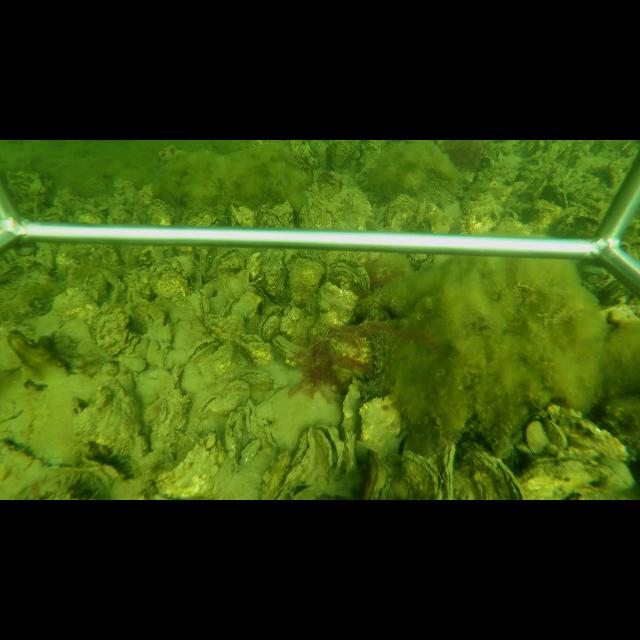Oyster-Closed: (148, 430, 229, 498), (518, 457, 626, 498), (308, 280, 362, 344), (180, 340, 242, 393), (465, 444, 522, 498), (563, 411, 626, 458), (358, 396, 403, 460), (282, 428, 322, 492), (90, 304, 135, 356), (286, 253, 326, 301), (400, 451, 441, 497), (330, 257, 371, 293), (362, 450, 388, 498), (206, 249, 246, 276), (340, 379, 361, 430), (441, 443, 458, 499), (524, 419, 549, 455), (224, 411, 244, 452), (259, 307, 281, 342), (545, 418, 568, 448), (273, 334, 300, 356), (245, 402, 258, 434)
Oyster-Open: (316, 424, 340, 470)
